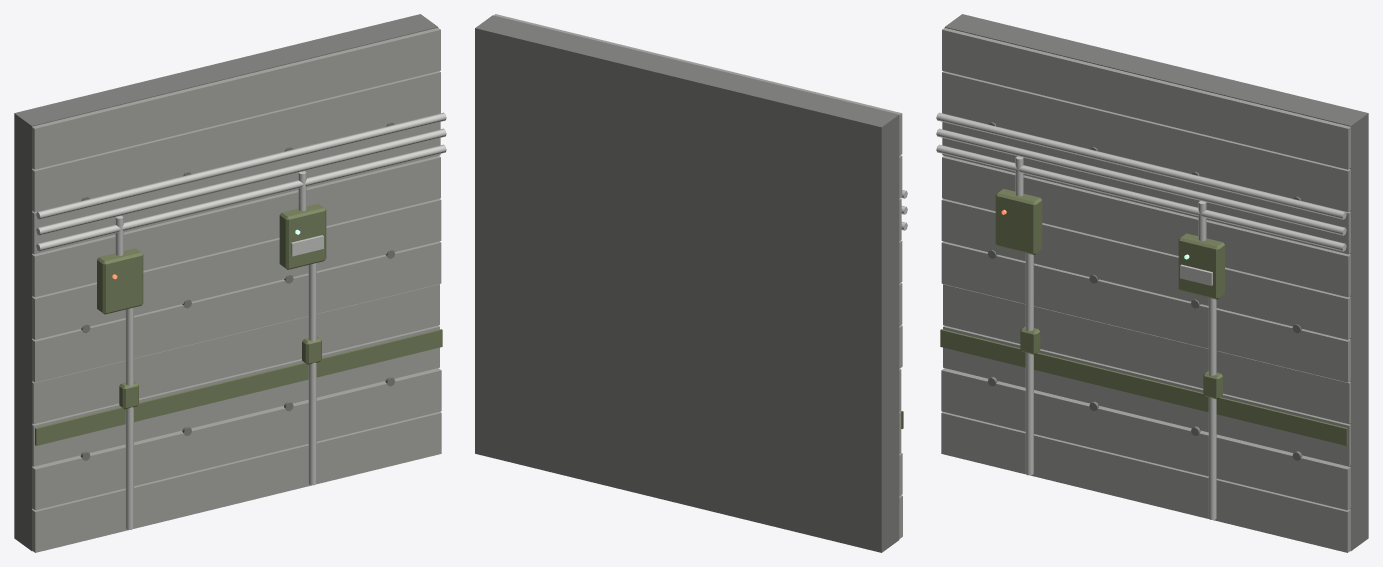
File: wall_bk_conduit.glb
The picture shows the model from 3 angles, left to right: view 1: azimuth 30°, elevation 25°; view 2: azimuth 150°, elevation 25°; view 3: azimuth 330°, elevation 25°; orthographic projection.
Parts seen in each view (by area): view 1: wall_bk_conduit; view 2: wall_bk_conduit; view 3: wall_bk_conduit.
Part boxes in pixels (x1,y1,x2,y2): wall_bk_conduit: (14, 14, 446, 552); wall_bk_conduit: (475, 14, 907, 552); wall_bk_conduit: (936, 14, 1368, 552).
Bounding box in the file's own units: 4 × 4 × 0.515.
